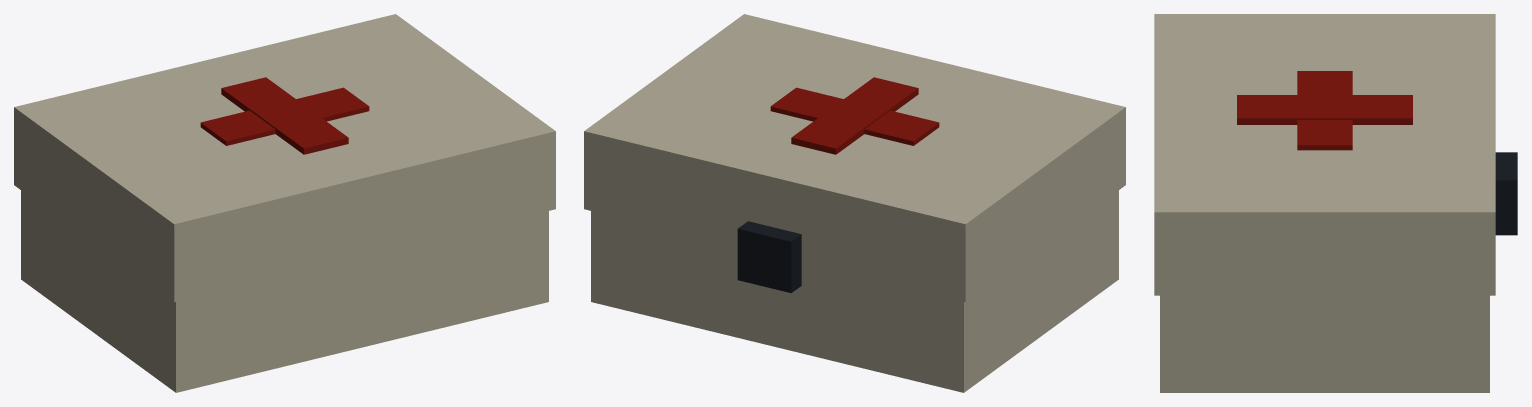
The model's file is SM_Medkit.fbx.
3 renders of one model, left to right at view 1: azimuth 30°, elevation 25°; view 2: azimuth 150°, elevation 25°; view 3: azimuth 270°, elevation 25°, orthographic. The views are drawn at different scales.
Parts seen in each view (by area): view 1: SM_Medkit; view 2: SM_Medkit; view 3: SM_Medkit.
Part boxes in pixels (x1=…): SM_Medkit: x1=14, y1=14, x2=555, y2=392; SM_Medkit: x1=584, y1=14, x2=1125, y2=392; SM_Medkit: x1=1154, y1=14, x2=1517, y2=392.
Bounding box in the file's own units: 25.6 × 11.4 × 19.8.
